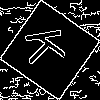K: (25, 25, 75, 66)
